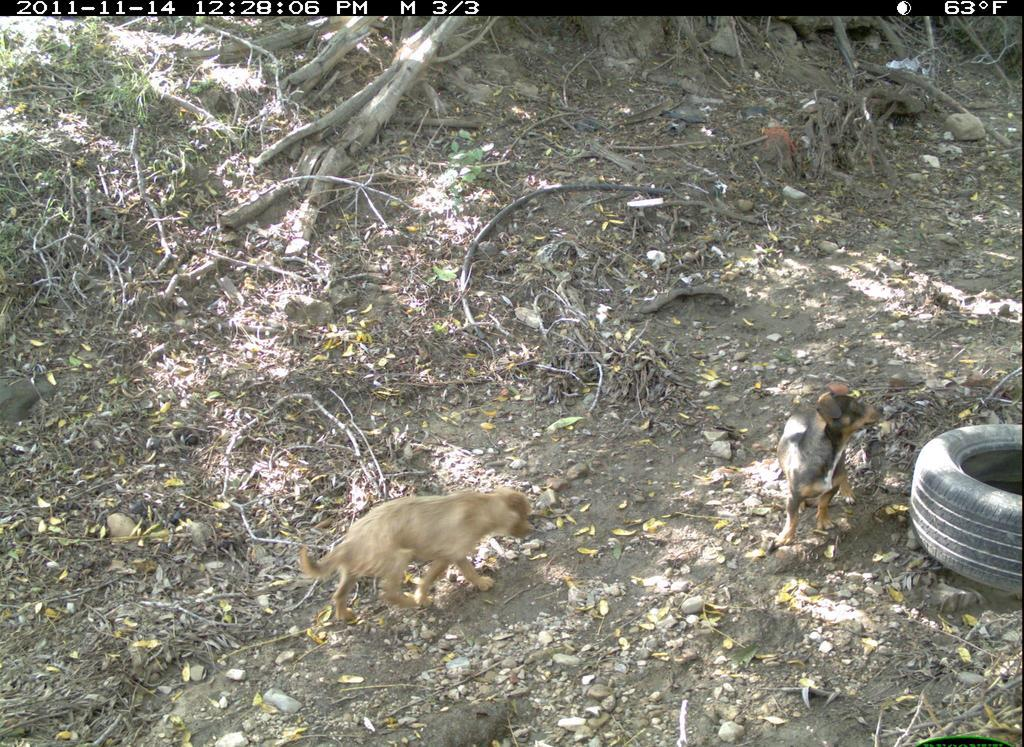dog: (294, 481, 550, 634), (766, 379, 890, 551)
